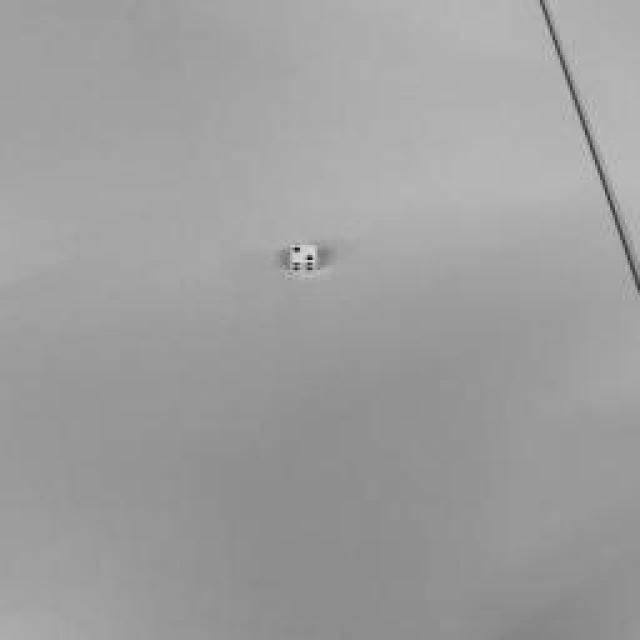dice_2: (291, 246, 319, 264)
